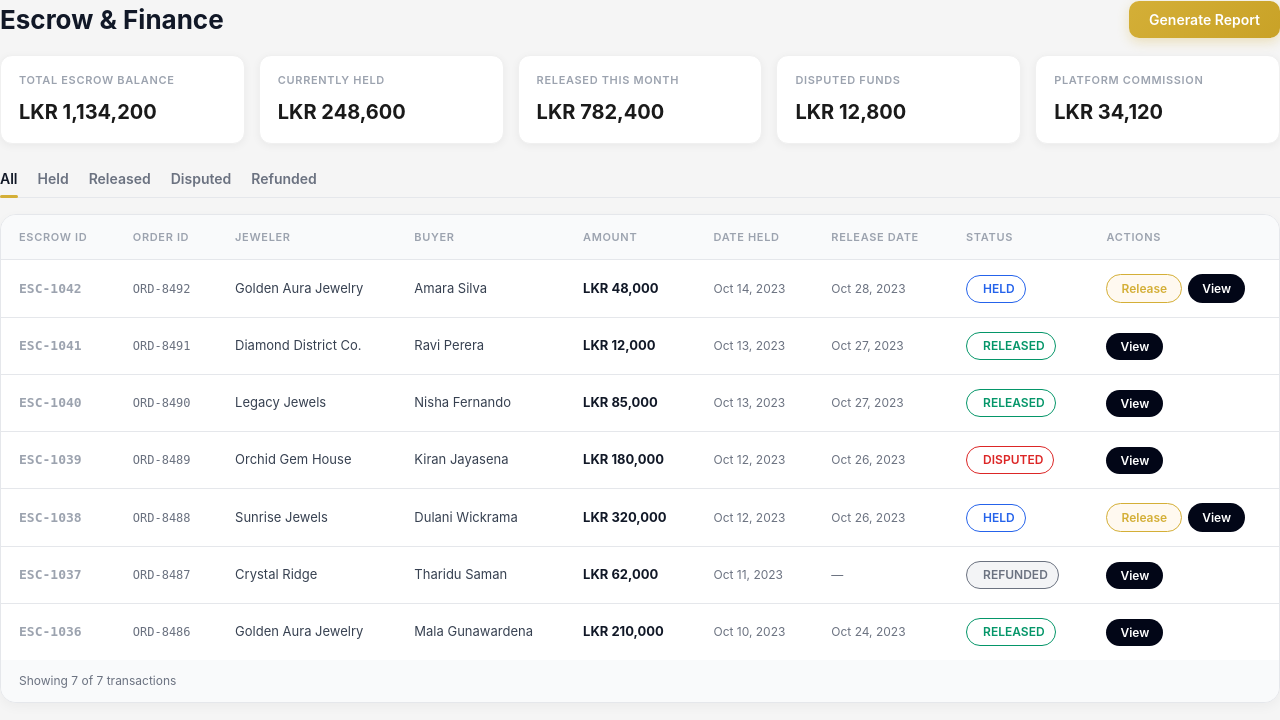
Test: All screens › EscrowFinance releases a held transaction
Click the button "Held" at (53, 178), box [38,160,69,196]
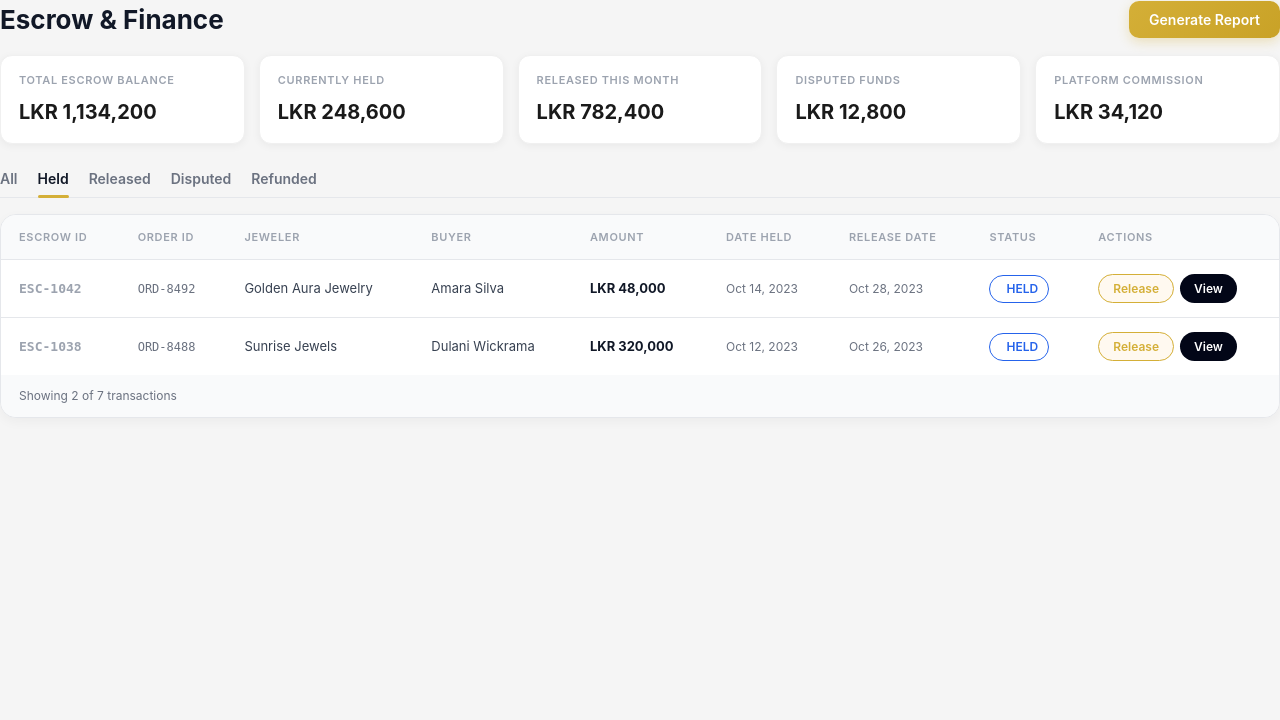
Click the button "Release" in the row of "ESC-1042" at (1136, 288), box [1098,274,1174,303]
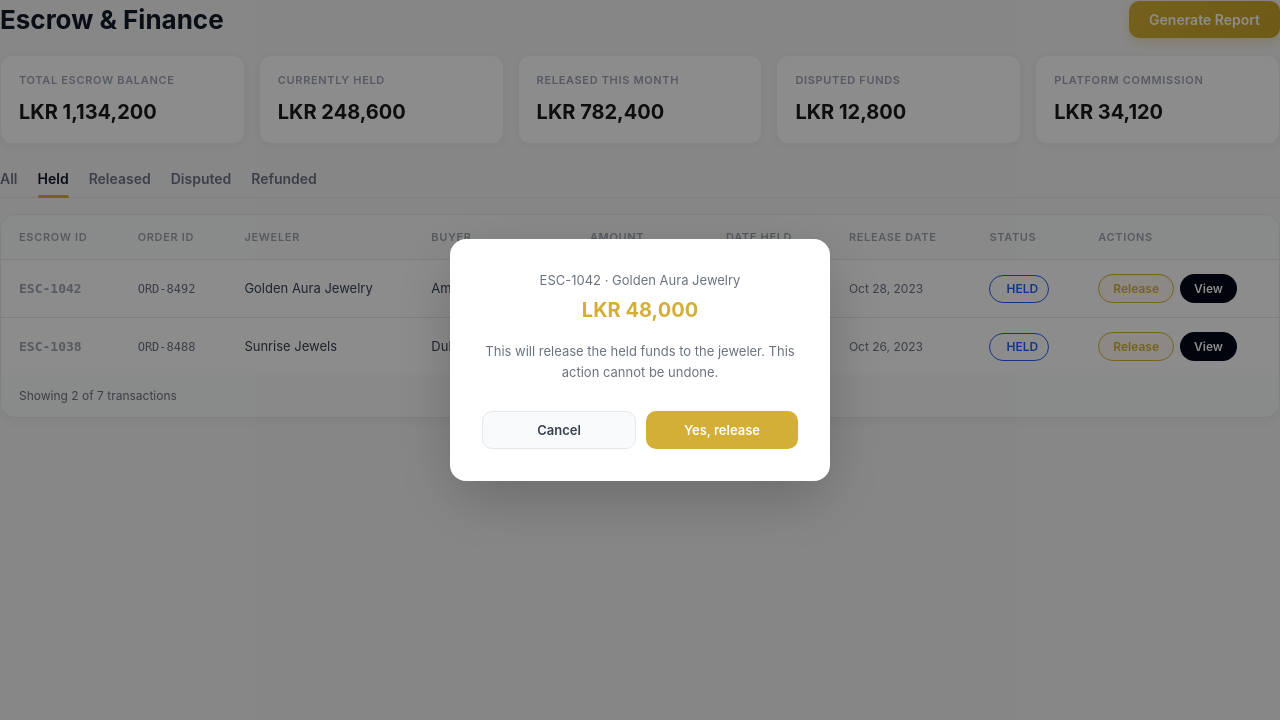
Click the button "Yes, release" at (722, 430), box [646,410,798,448]
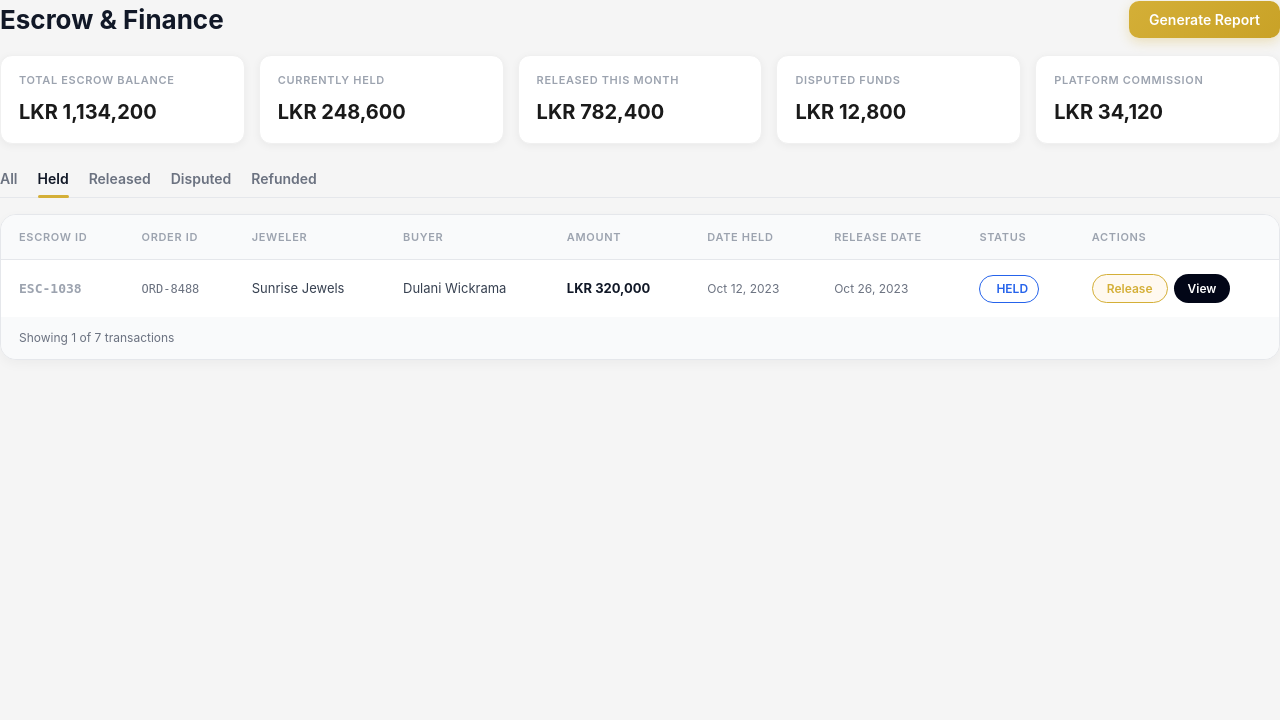
Expected: the text "Showing 1 of 7 transactions" is shown, [19,330,174,345]
